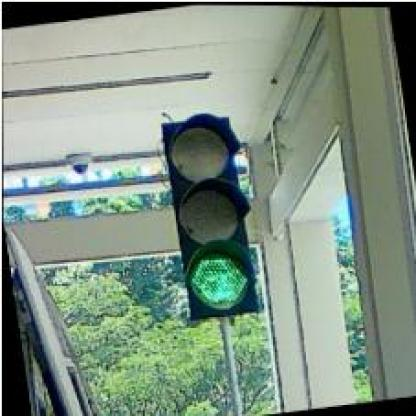green: (156, 111, 258, 321)
